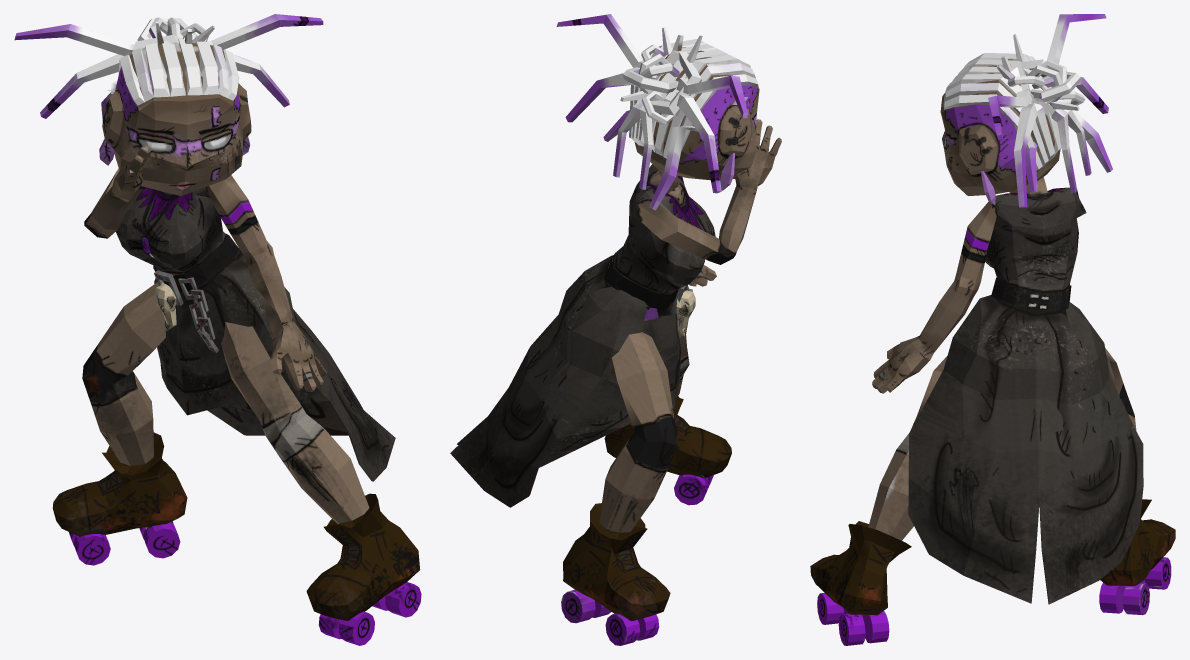
The model's file is bruja_000012.obj.
3 views of the same model, side by side, from view 1: azimuth 30°, elevation 25°; view 2: azimuth 150°, elevation 25°; view 3: azimuth 270°, elevation 25° (orthographic). The views are drawn at different scales.
Visible parts, largest first — view 1: Bruja_Plane.001; view 2: Bruja_Plane.001; view 3: Bruja_Plane.001.
Part boxes in pixels (x1,y1,x2,y2): Bruja_Plane.001: (14,14,421,645); Bruja_Plane.001: (450,14,781,645); Bruja_Plane.001: (810,14,1175,645).
Size of the model in its own units: 9.47 by 15.45 by 9.25.
